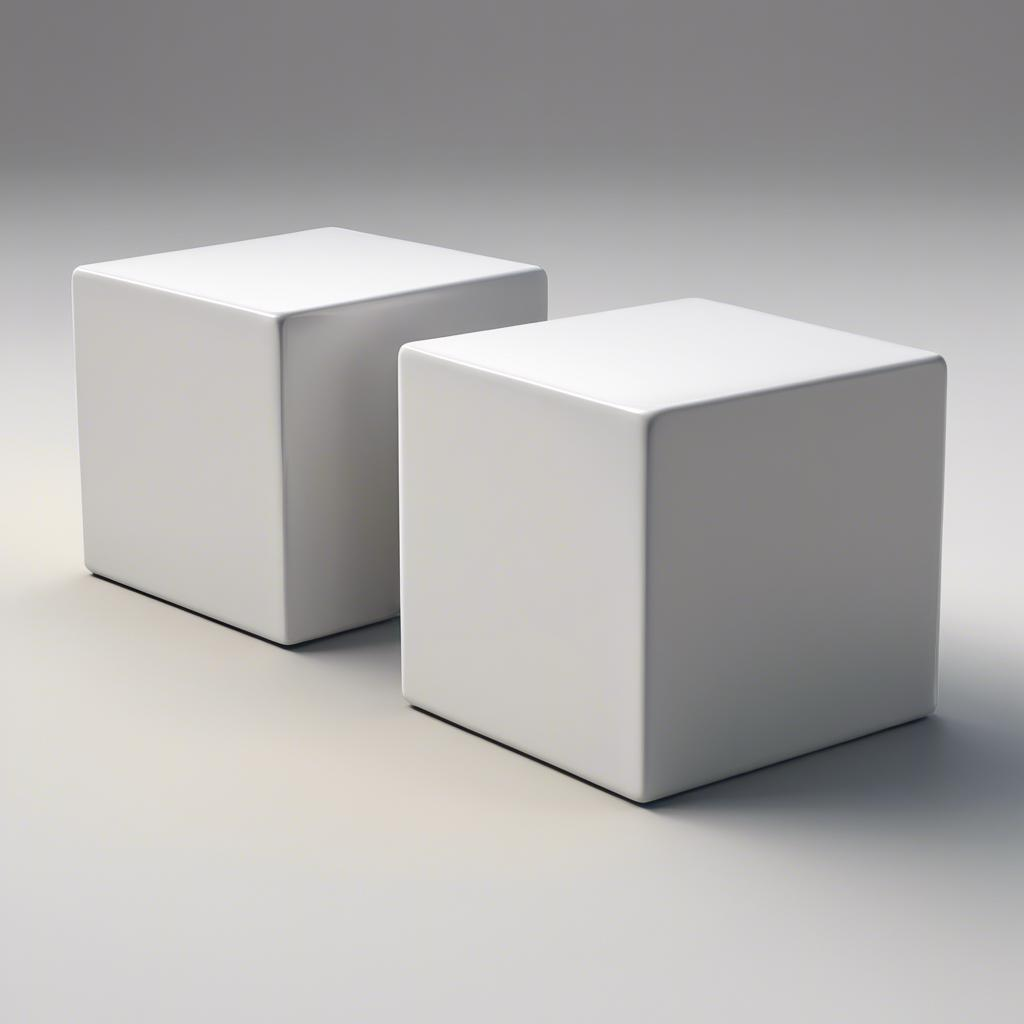cube: (396, 294, 947, 805), (70, 223, 548, 649)
